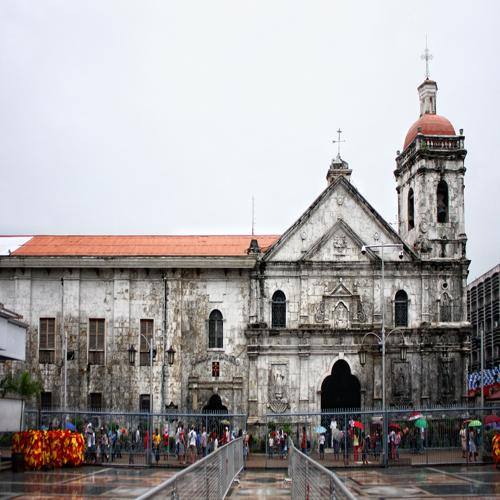Sto. Nino Basilica Church: (242, 36, 479, 465)
